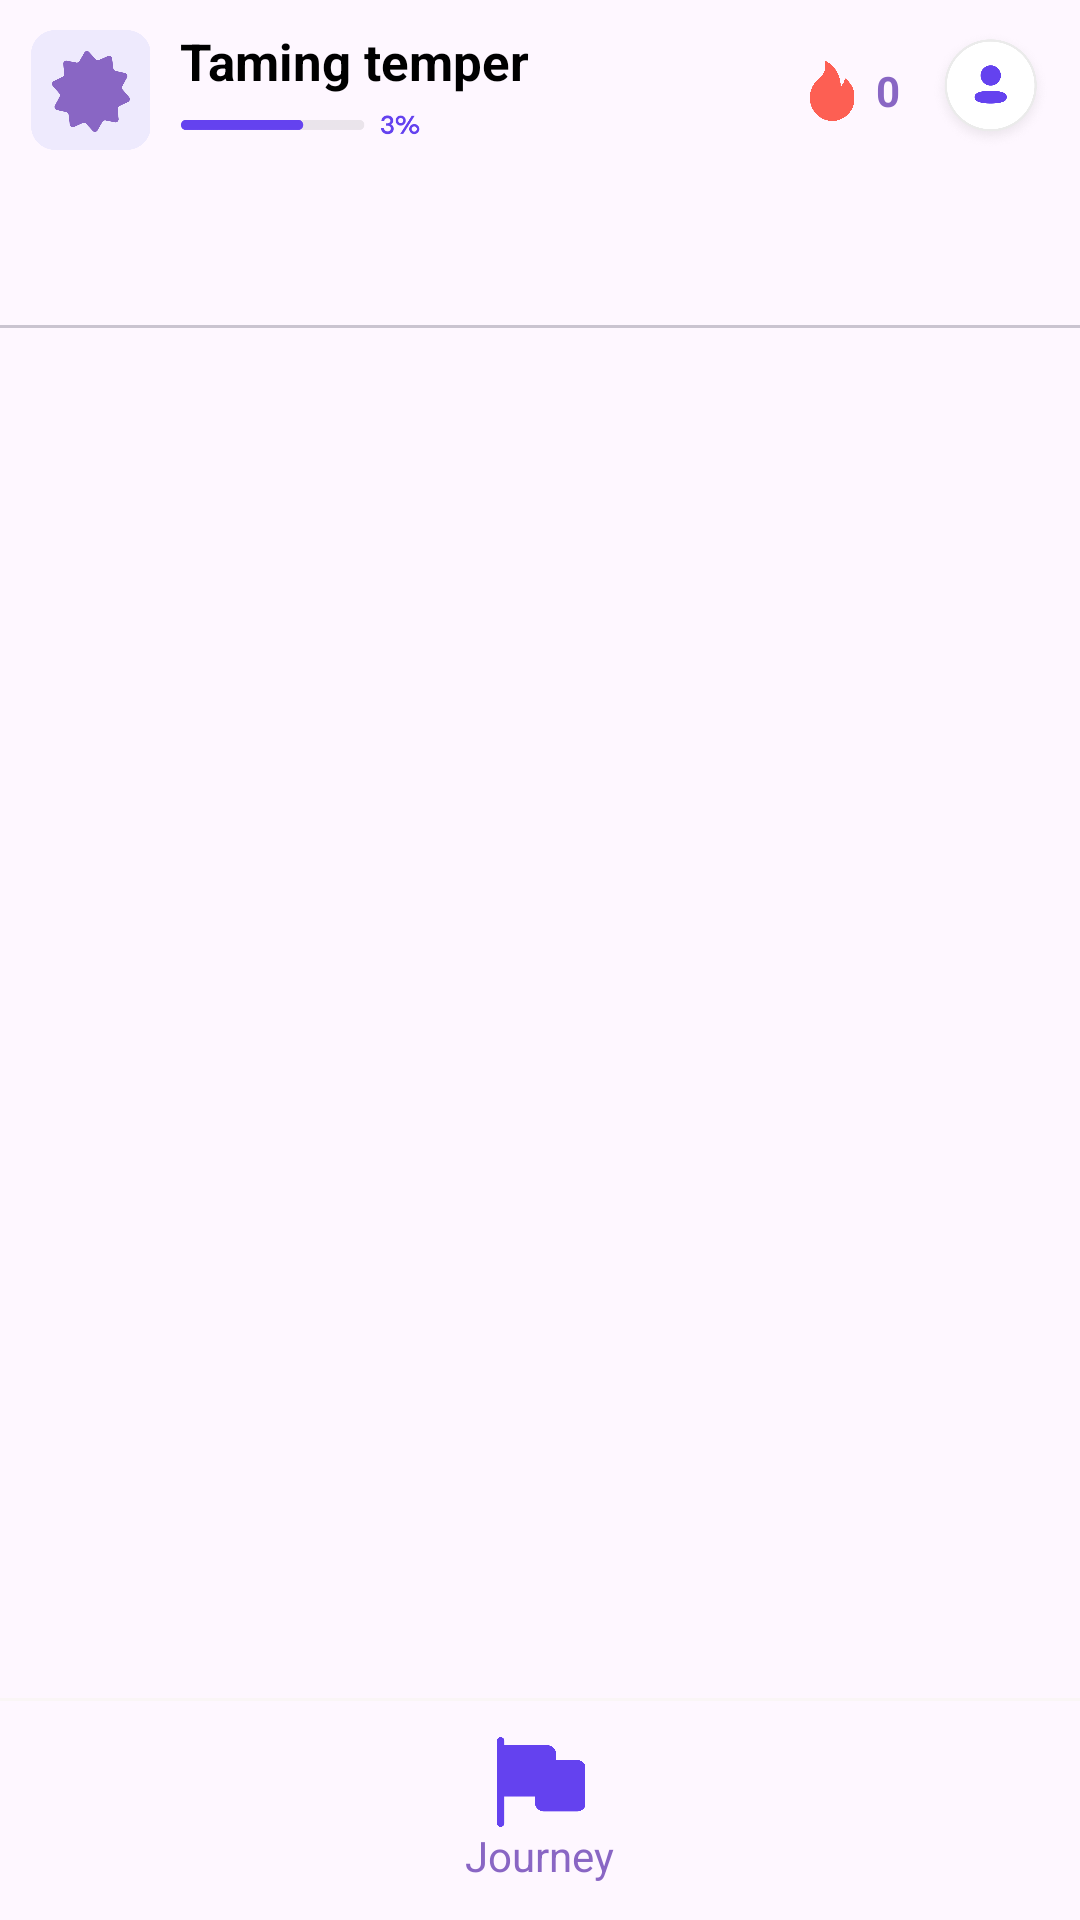

Where icons sit on this 1080px×1920px app screen, as (x1, y1, x2, y2):
fire: (810, 61, 854, 121)
profile: (974, 65, 1007, 104)
